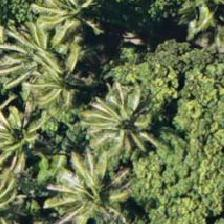coconut_tree: (69, 78, 159, 168), (12, 44, 102, 134), (52, 155, 142, 223), (0, 3, 56, 93), (26, 0, 116, 55), (0, 103, 55, 193), (0, 156, 45, 223)
